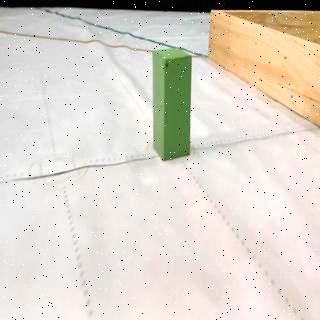greenbox: (151, 48, 193, 162)
